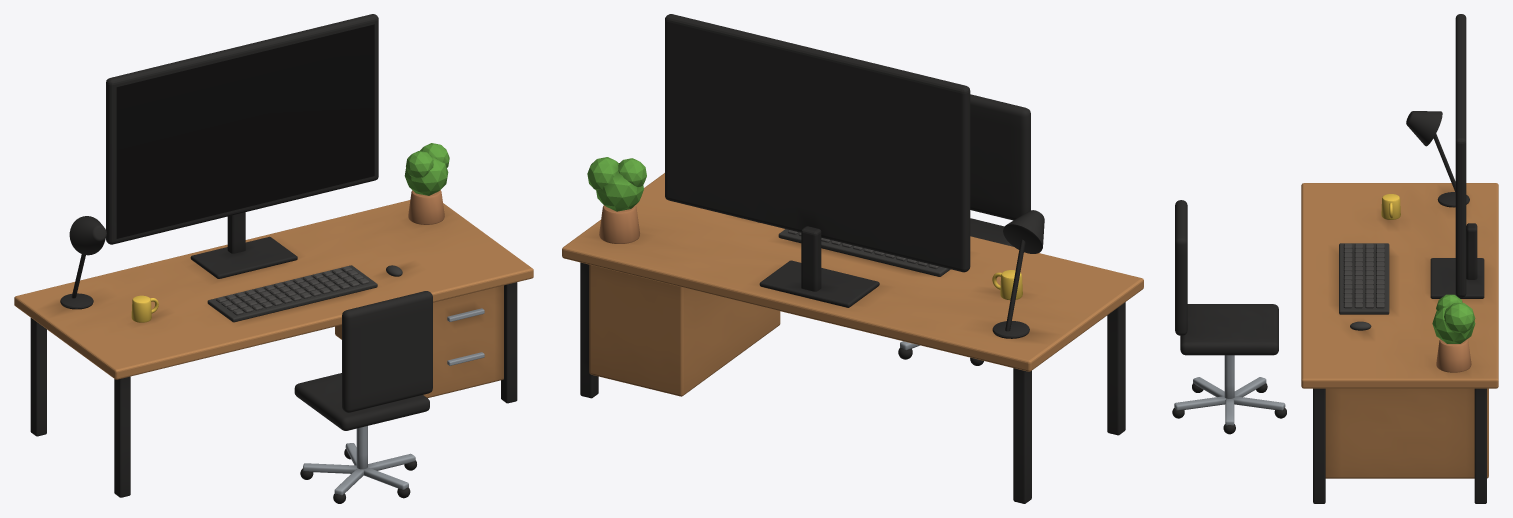
The model's file is desk.glb.
3 renders of one model, left to right at view 1: azimuth 30°, elevation 25°; view 2: azimuth 150°, elevation 25°; view 3: azimuth 270°, elevation 25°, orthographic. The views are drawn at different scales.
Parts seen in each view (by area): view 1: Screen, top, back, bezel, drawers, seat, keys, foot, leg, keyboard, leg.002, leg.001 (+5 smaller); view 2: bezel, top, drawers, back, foot, leg.002, leg, leg.003, neck, lampshade, pot, keyboard (+3 smaller); view 3: top, drawers, seat, bezel, keys, back, keyboard, foot, leg.001, leg.003, pot, lampshade (+7 smaller).
Boxes of the visible parts, x1=… form: Screen: x1=116, y1=24, x2=374, y2=238; top: x1=14, y1=200, x2=533, y2=379; back: x1=342, y1=291, x2=432, y2=412; bezel: x1=106, y1=14, x2=378, y2=244; drawers: x1=335, y1=285, x2=503, y2=397; seat: x1=294, y1=373, x2=429, y2=430; keys: x1=216, y1=266, x2=369, y2=315; foot: x1=190, y1=236, x2=297, y2=278; leg: x1=114, y1=376, x2=130, y2=497; keyboard: x1=207, y1=265, x2=377, y2=322; leg.002: x1=30, y1=318, x2=46, y2=436; leg.001: x1=501, y1=282, x2=517, y2=403; bezel: x1=665, y1=14, x2=970, y2=272; top: x1=562, y1=173, x2=1143, y2=371; drawers: x1=589, y1=264, x2=780, y2=396; back: x1=970, y1=94, x2=1030, y2=220; foot: x1=759, y1=260, x2=879, y2=307; leg.002: x1=1013, y1=368, x2=1031, y2=503; leg: x1=1107, y1=302, x2=1125, y2=435; leg.003: x1=580, y1=262, x2=598, y2=398; neck: x1=801, y1=226, x2=821, y2=291; lampshade: x1=1003, y1=210, x2=1044, y2=253; pot: x1=599, y1=205, x2=639, y2=243; keyboard: x1=778, y1=229, x2=950, y2=276; top: x1=1301, y1=183, x2=1498, y2=388; drawers: x1=1325, y1=388, x2=1488, y2=478; seat: x1=1180, y1=304, x2=1278, y2=355; bezel: x1=1455, y1=14, x2=1466, y2=297; keys: x1=1343, y1=243, x2=1384, y2=308; back: x1=1175, y1=200, x2=1187, y2=335; keyboard: x1=1339, y1=243, x2=1389, y2=314; foot: x1=1430, y1=258, x2=1484, y2=298; leg.001: x1=1313, y1=388, x2=1325, y2=503; leg.003: x1=1474, y1=388, x2=1486, y2=503; pot: x1=1436, y1=339, x2=1471, y2=372; lampshade: x1=1406, y1=111, x2=1442, y2=146.
Size of the model in its own units: 2.6 by 2.06 by 1.82.
